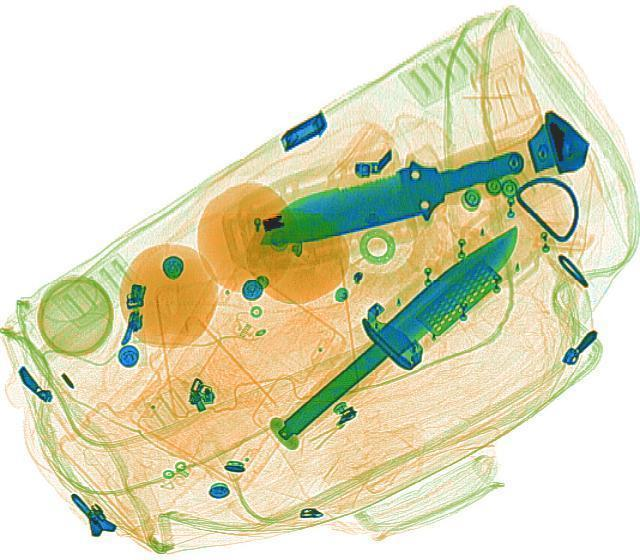Knife: (269, 214, 541, 450), (246, 136, 534, 256)
